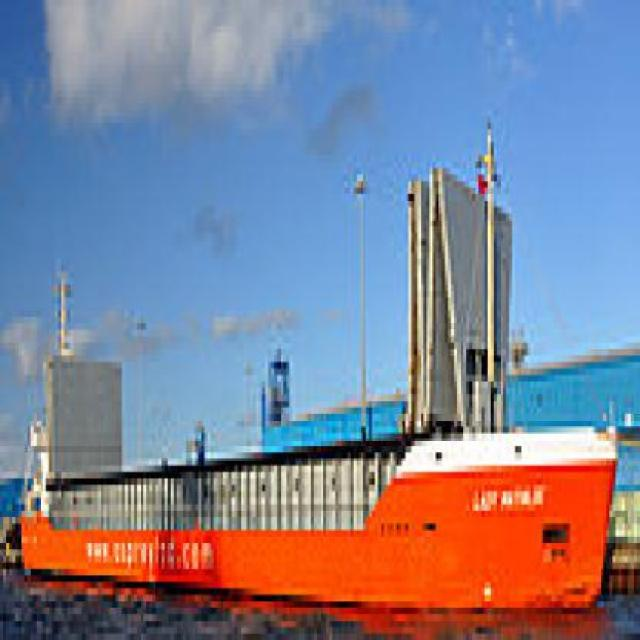container: (10, 104, 623, 629)
